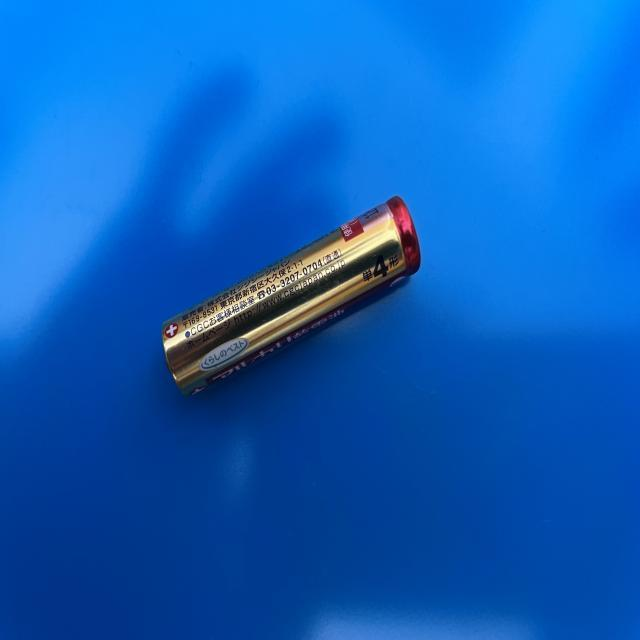hazardous waste: (162, 193, 424, 410)
